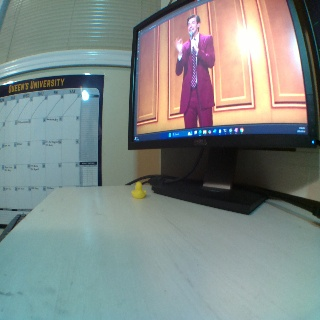duck_regular: (131, 180, 147, 199)
